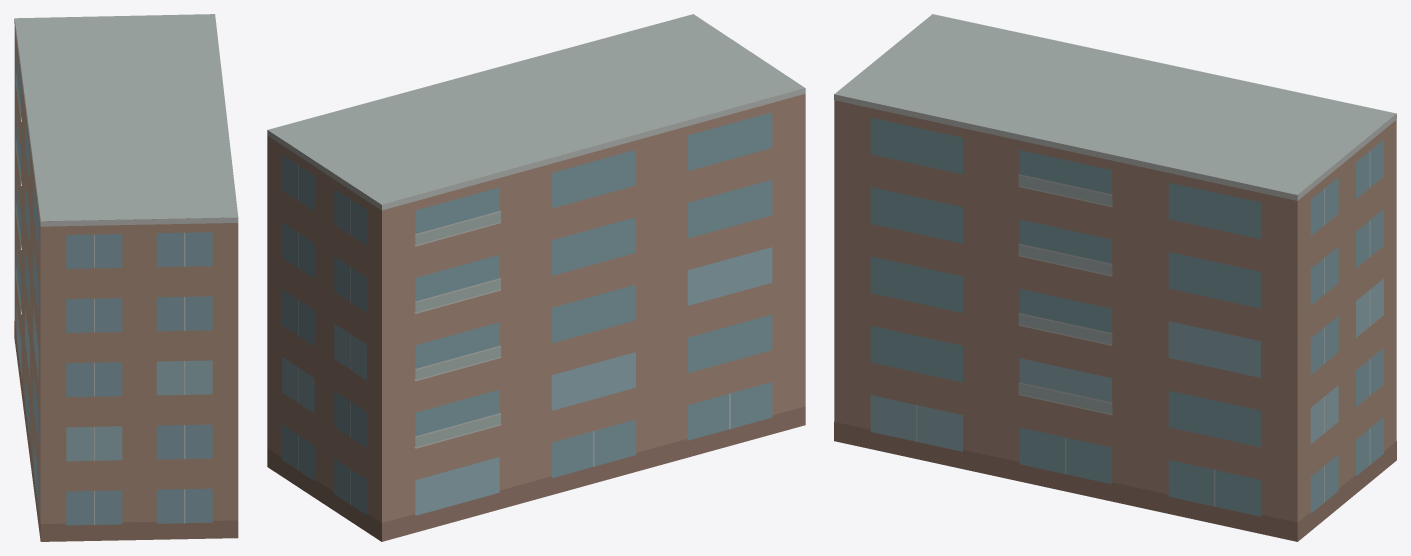
File: survey-upis-32885236.glb
3 views of the same model, side by side, from view 1: azimuth 30°, elevation 25°; view 2: azimuth 150°, elevation 25°; view 3: azimuth 270°, elevation 25° (orthographic). The views are drawn at different scales.
Parts seen in each view (by area): view 1: survey-upis-32885236.tmp; view 2: survey-upis-32885236.tmp; view 3: survey-upis-32885236.tmp.
Boxes of the visible parts, x1,y1,x2,y2 form: survey-upis-32885236.tmp: [14, 14, 238, 541]; survey-upis-32885236.tmp: [267, 14, 805, 541]; survey-upis-32885236.tmp: [834, 14, 1396, 541].
Bounding box in the file's own units: 16.19 × 14.45 × 21.26.
